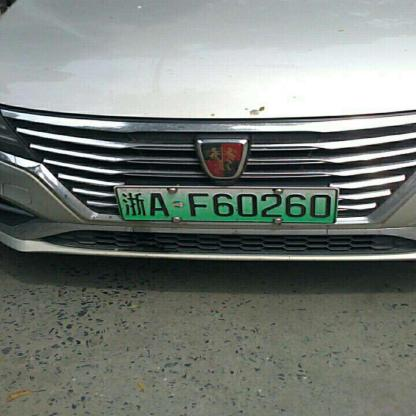lp: (117, 188, 336, 221)
